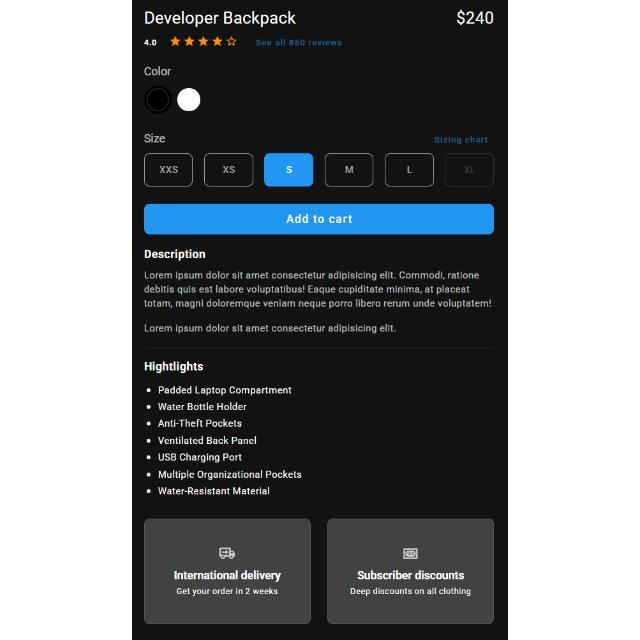QLabel: (142, 270, 494, 310), (144, 8, 298, 28), (143, 322, 397, 334), (174, 570, 282, 584), (158, 470, 302, 480), (158, 386, 292, 396), (356, 570, 464, 582), (348, 587, 472, 597), (157, 486, 271, 496), (175, 587, 278, 597), (156, 436, 258, 446), (254, 38, 344, 48), (158, 402, 248, 412), (156, 453, 244, 463), (284, 213, 354, 225), (455, 8, 495, 28), (144, 249, 206, 261), (143, 361, 205, 373), (158, 419, 242, 427), (434, 136, 490, 144), (144, 66, 172, 76), (144, 134, 166, 144), (159, 164, 179, 174), (142, 38, 158, 48), (220, 166, 236, 174), (464, 165, 476, 175), (284, 166, 294, 174), (344, 166, 354, 174), (406, 165, 414, 175)
VBtn: (143, 203, 494, 235), (324, 152, 374, 188), (144, 152, 193, 188), (204, 153, 254, 187), (264, 153, 314, 187), (384, 153, 434, 187), (445, 153, 495, 187)
VCard: (144, 519, 312, 625), (328, 518, 494, 624)
VDivider: (143, 346, 494, 348)
VIcon: (145, 86, 171, 112), (176, 87, 202, 113), (218, 546, 236, 560), (403, 548, 419, 560), (146, 488, 152, 494), (146, 404, 150, 410), (146, 456, 152, 460), (146, 388, 150, 392), (147, 421, 151, 425), (147, 439, 151, 443), (146, 473, 150, 477)
VRating: (170, 36, 238, 48)
